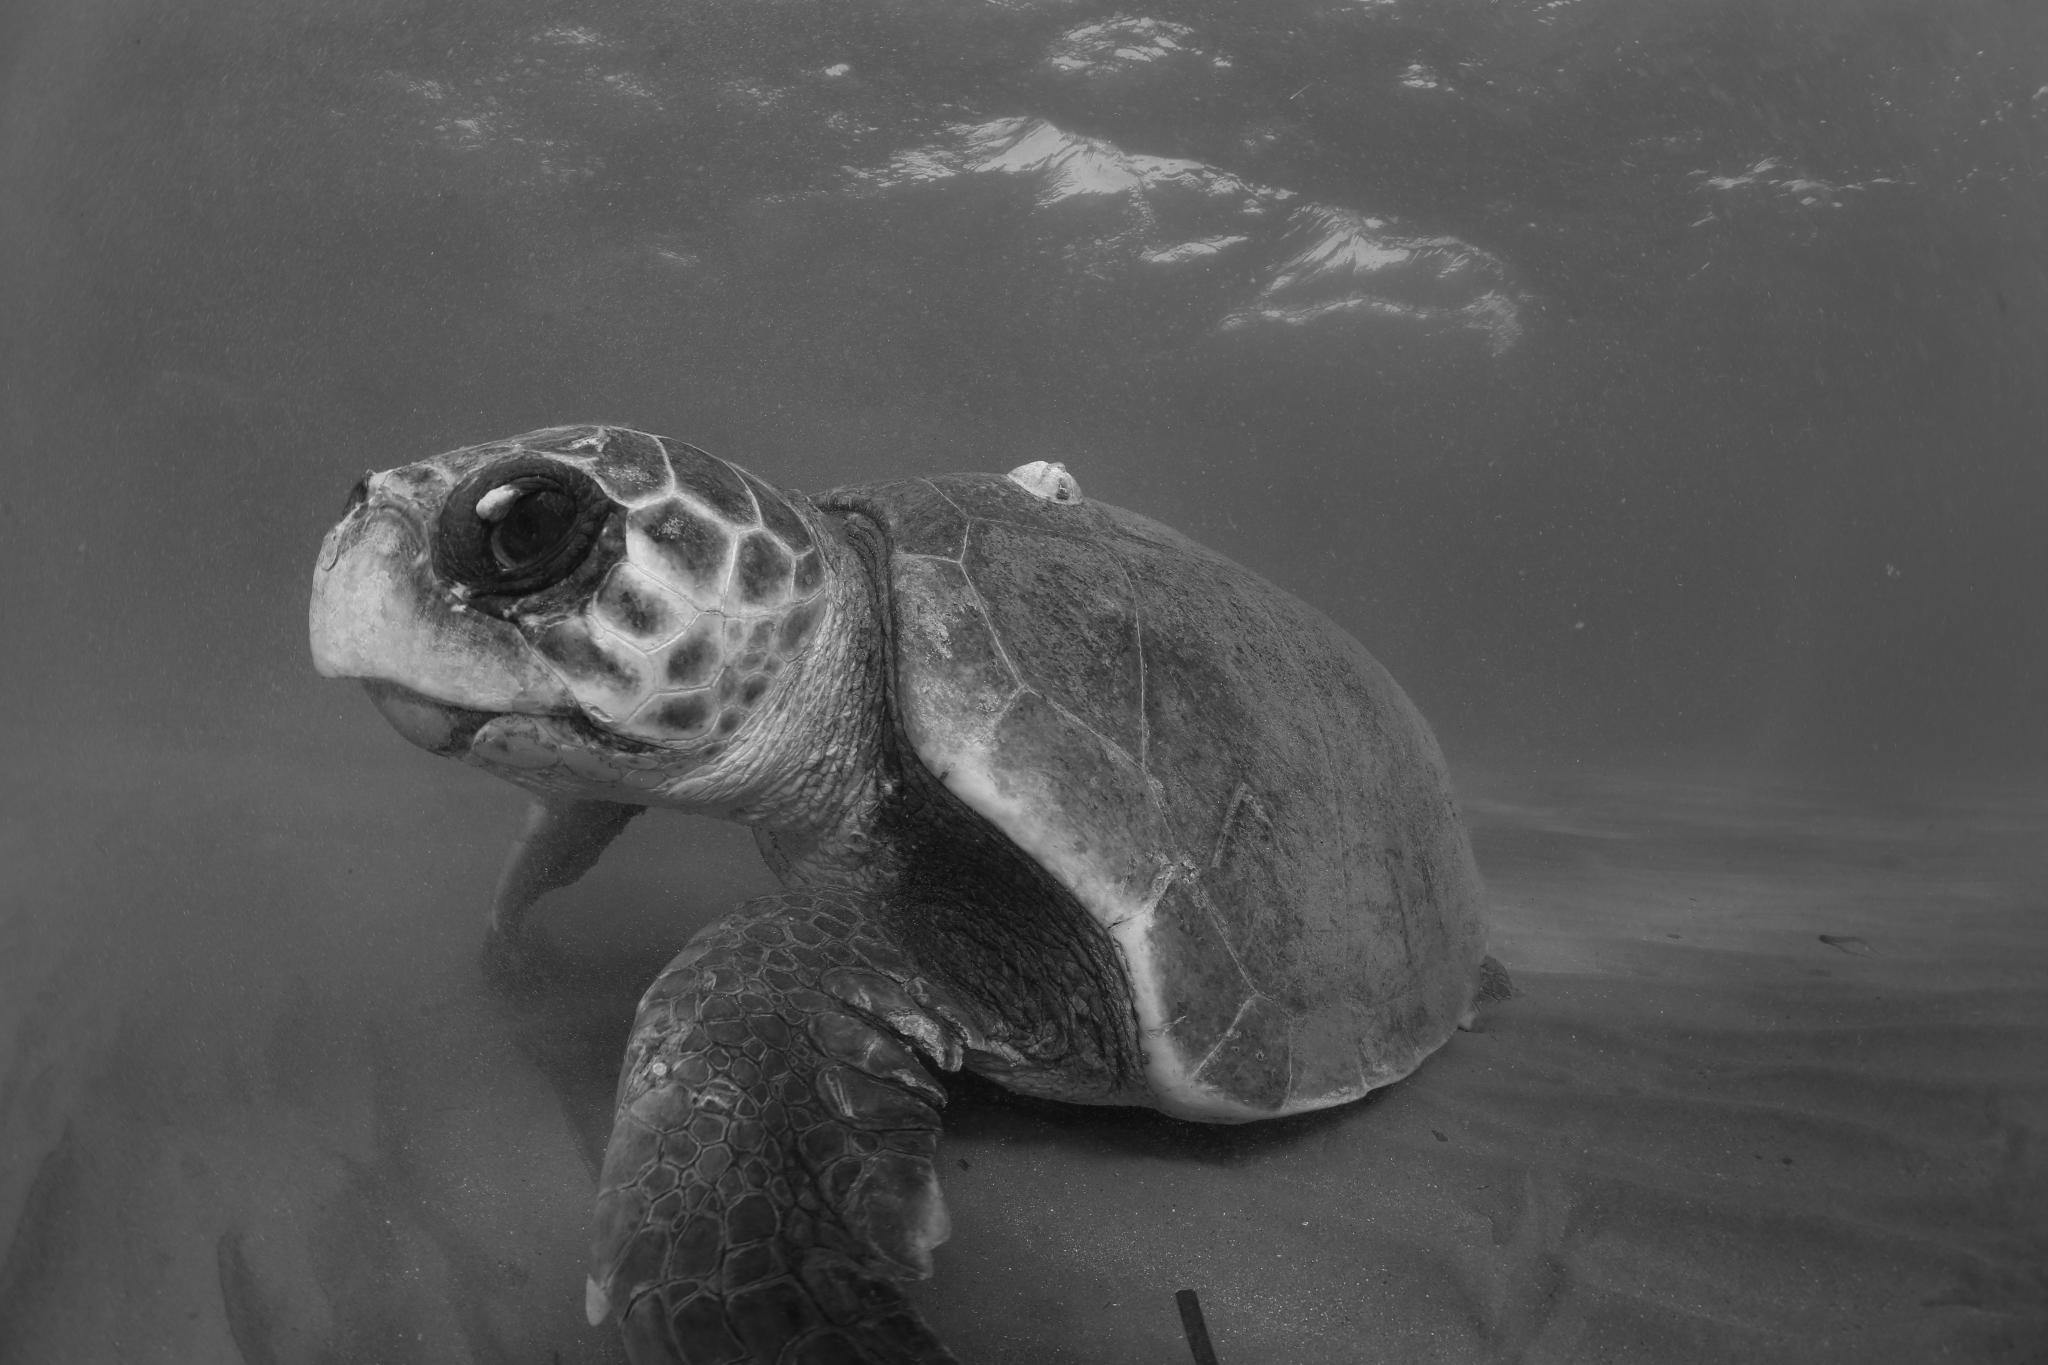Head: (311, 426, 861, 824)
